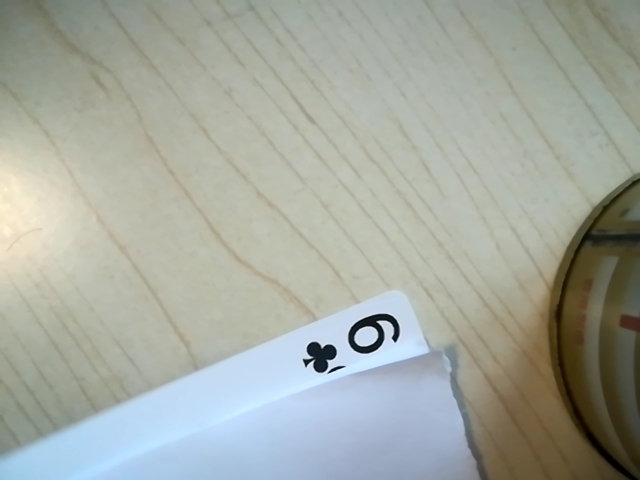mh 6: (293, 308, 421, 383)
